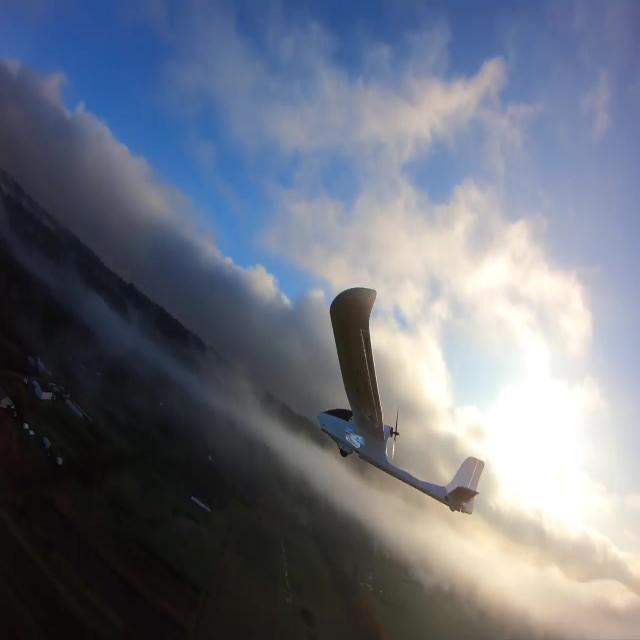iha: (315, 286, 487, 517)
